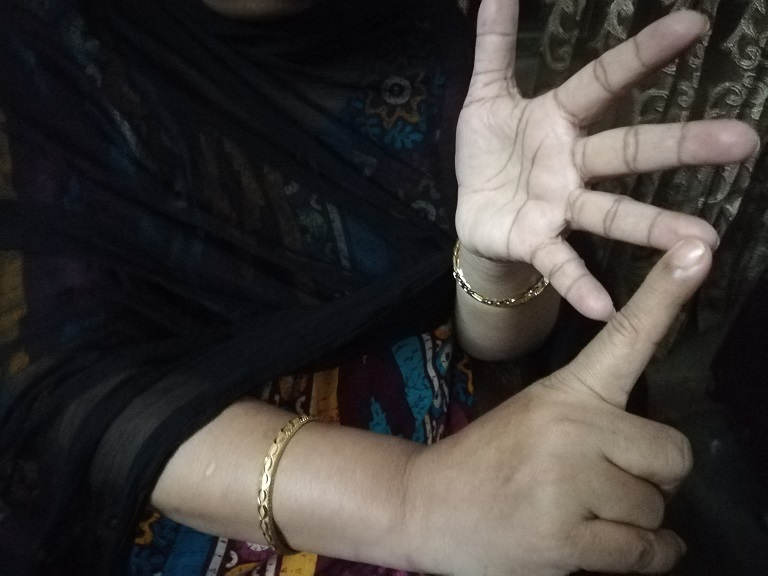e: (446, 2, 756, 576)
